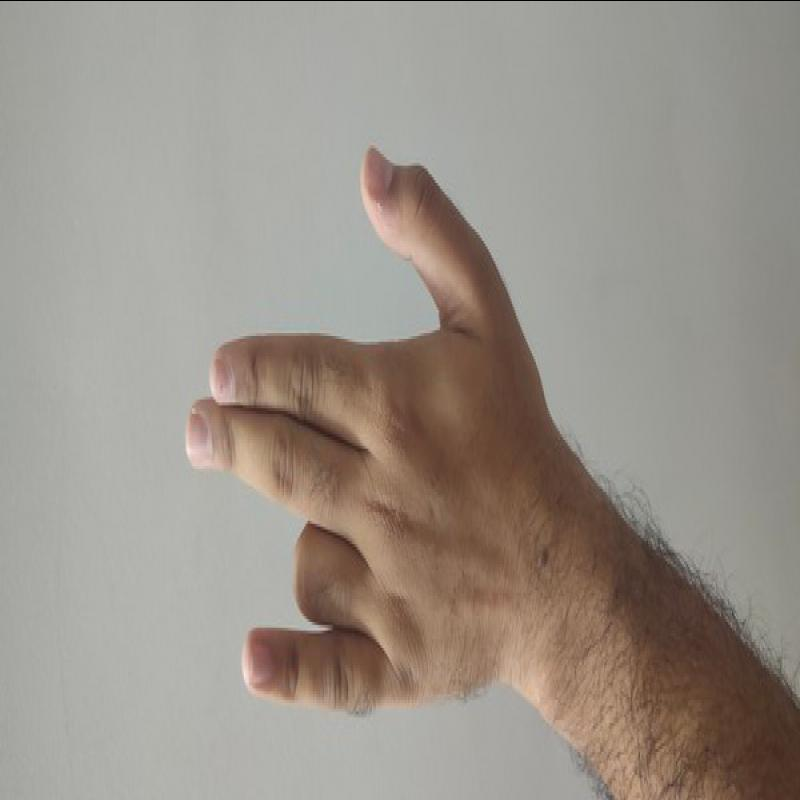Pathaaka: (121, 136, 572, 725)
